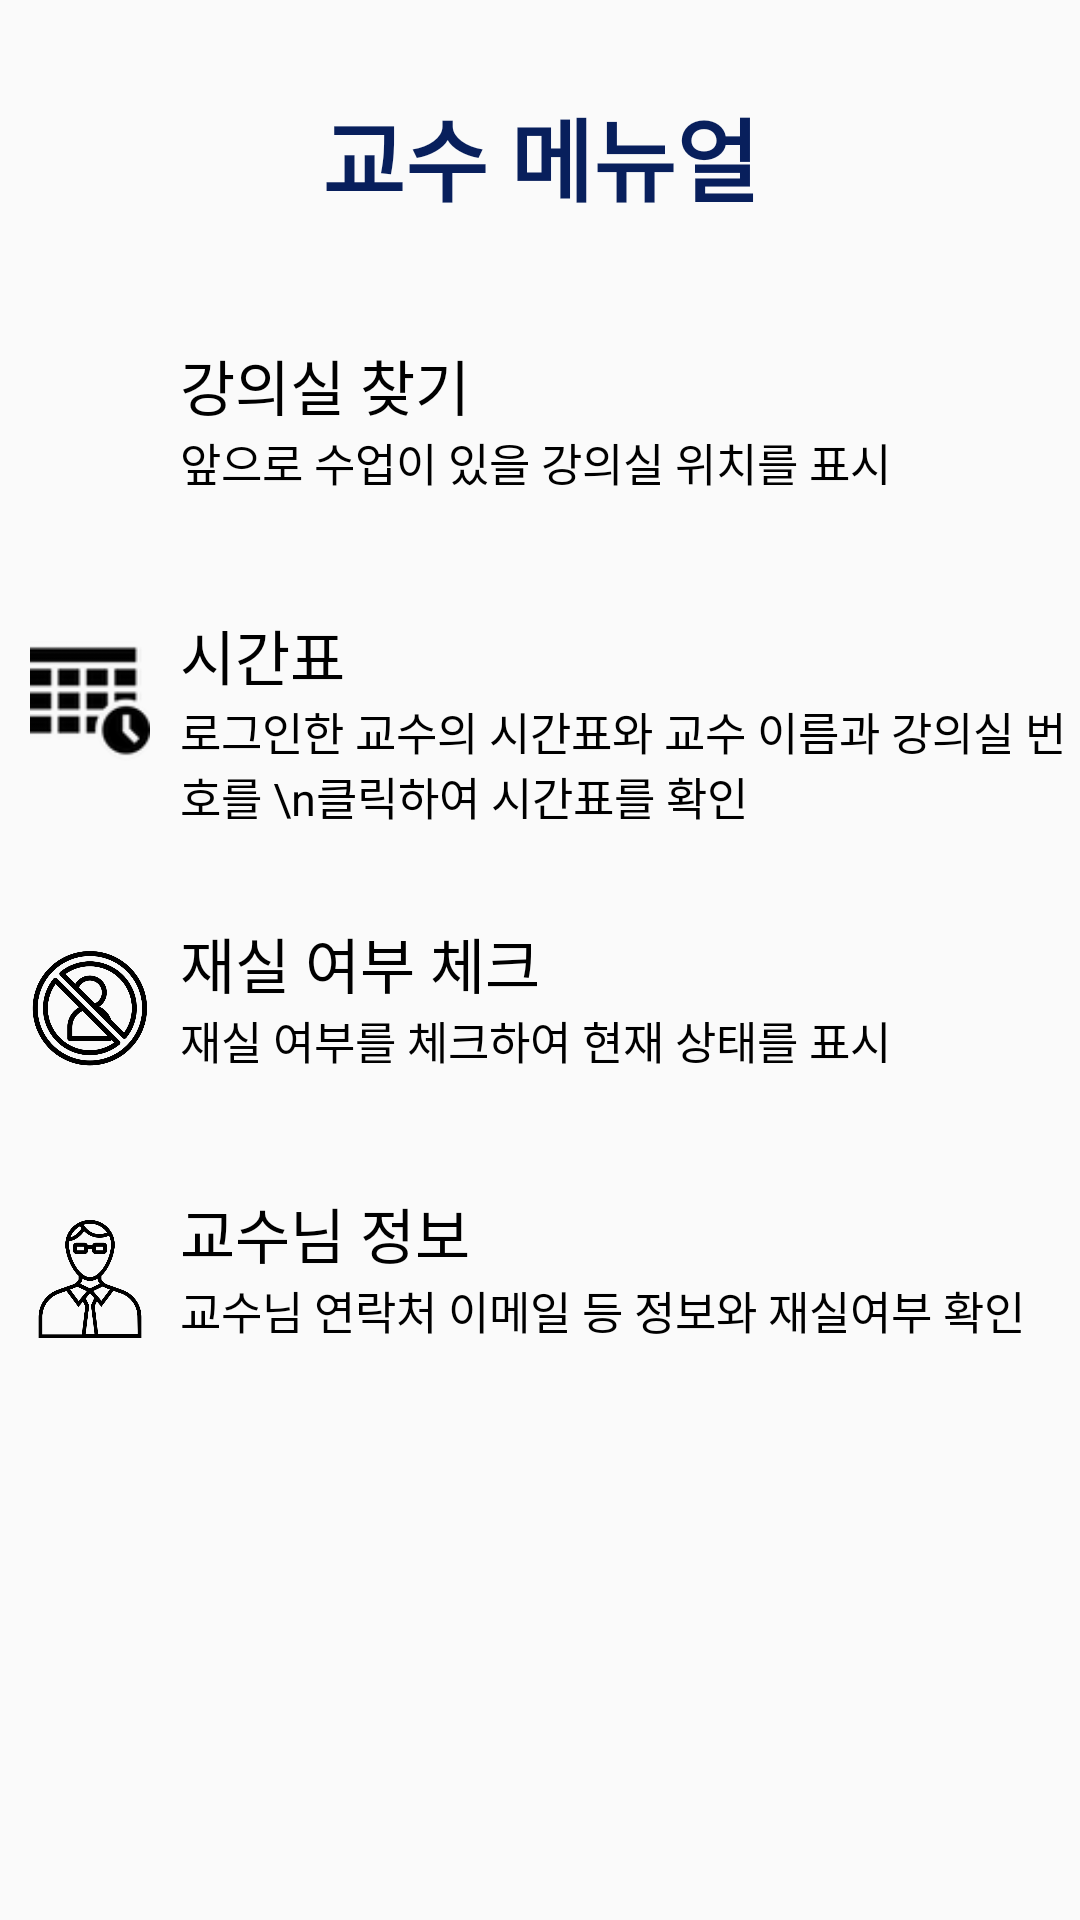

Icon click points for this 1080 x 1920 phone screenshot, format point (x, y):
absence: point (89, 1008)
professor: point (90, 1279)
timetable: point (90, 701)
